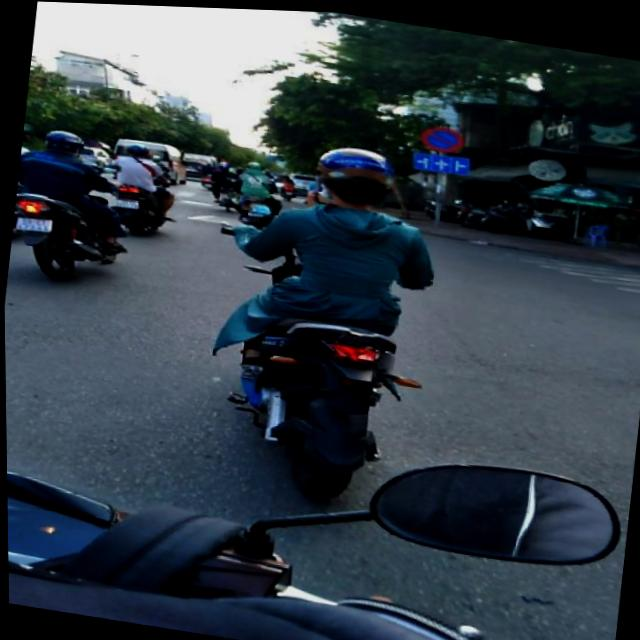Cam do xe: (419, 120, 464, 151)
